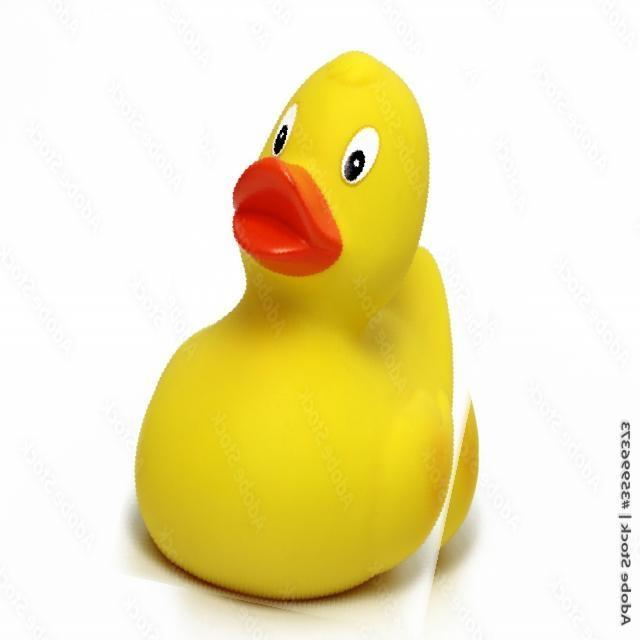rubber-duck: (135, 51, 476, 597)
